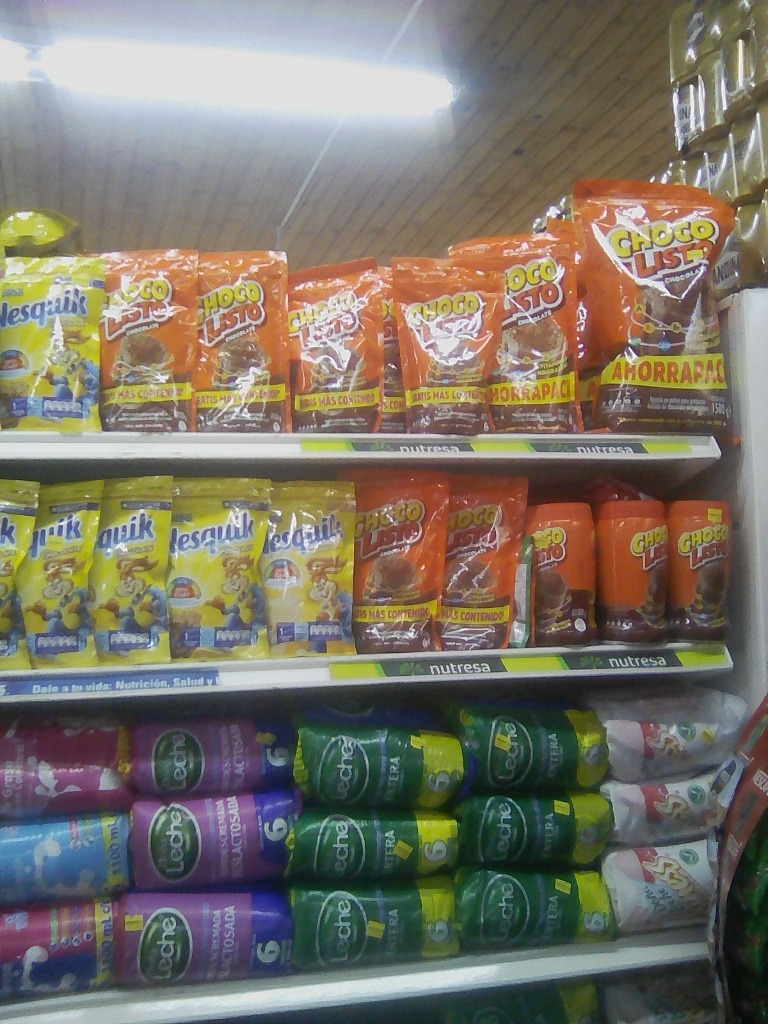COL0170103DYP1,500: (571, 174, 732, 433)
COL0170103DYP20000: (94, 251, 197, 428)
COL0170103DYP40000: (443, 229, 579, 436)
COL0170103TRR30000: (524, 502, 600, 645)
COL0170303DYP20000: (2, 258, 101, 432)
COL0170306DYP20000: (100, 475, 172, 665)
